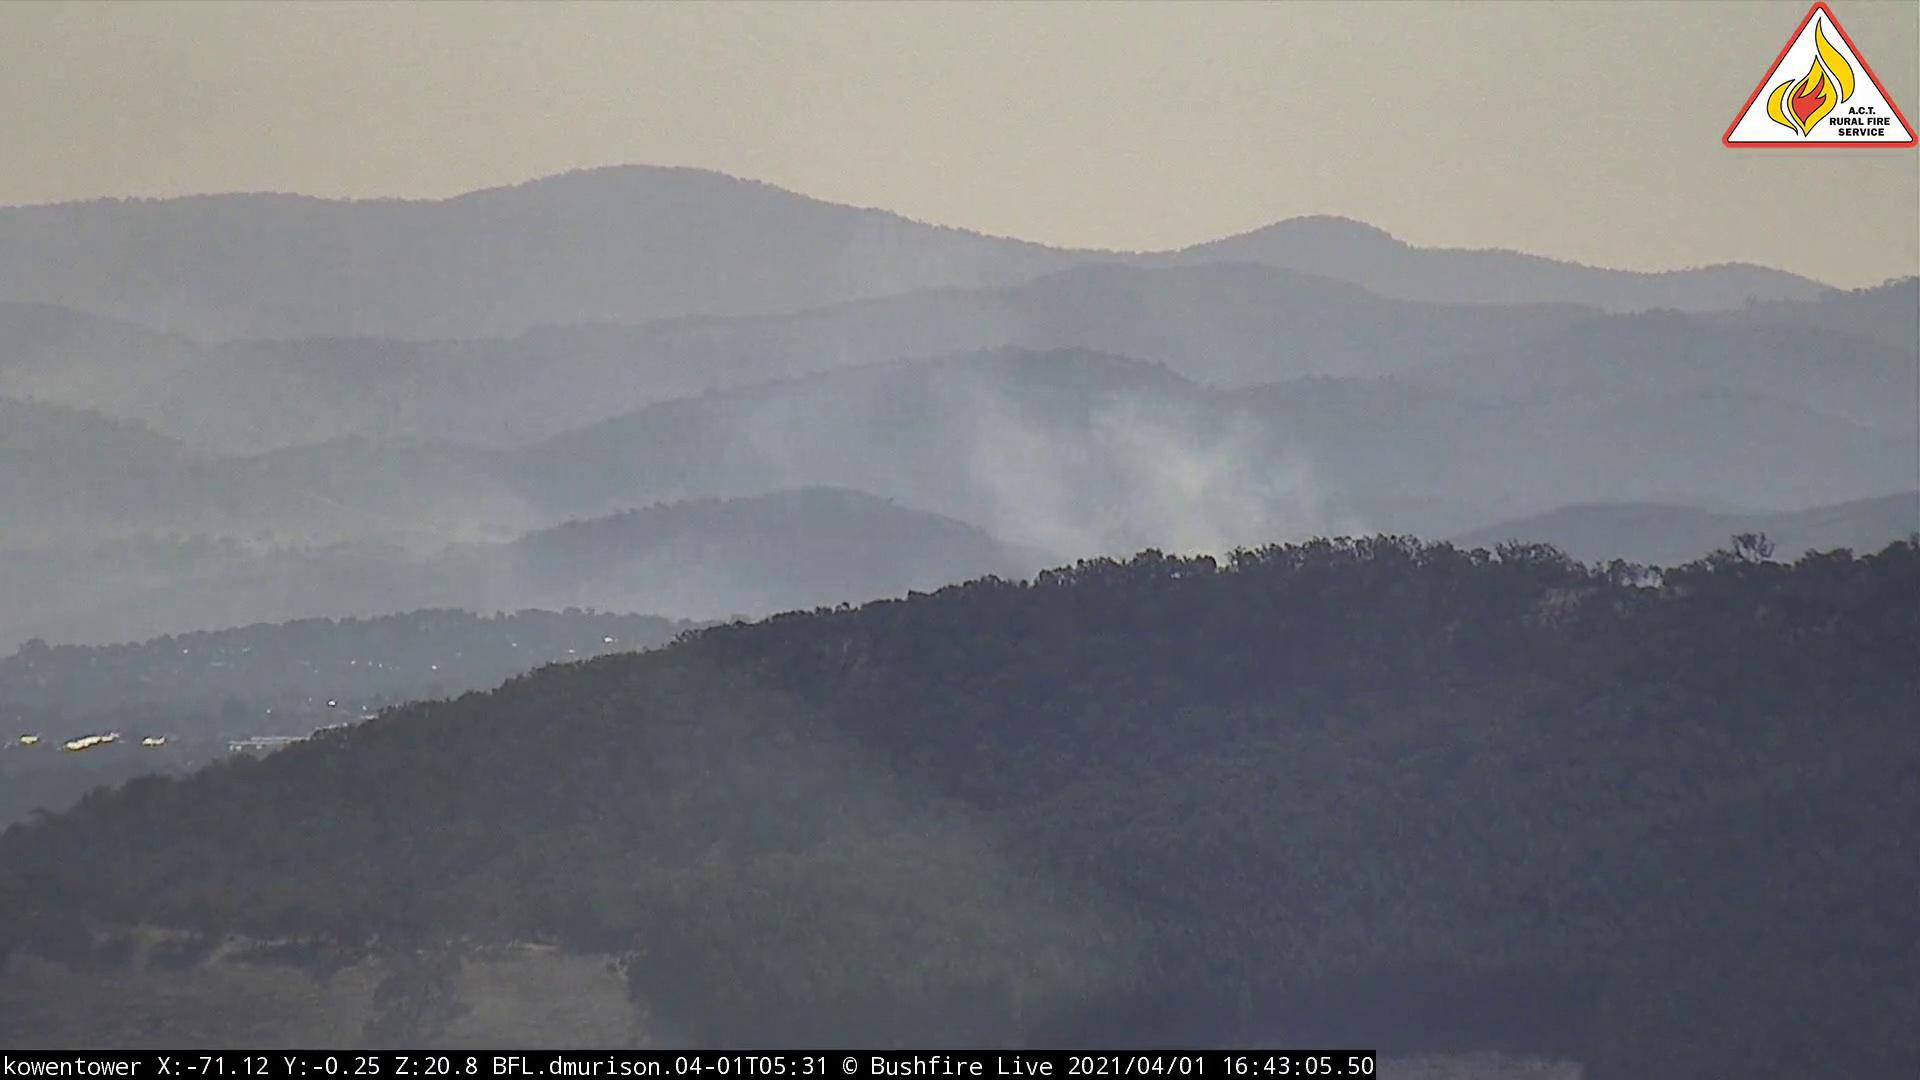Smoke: (433, 220, 1425, 709)
